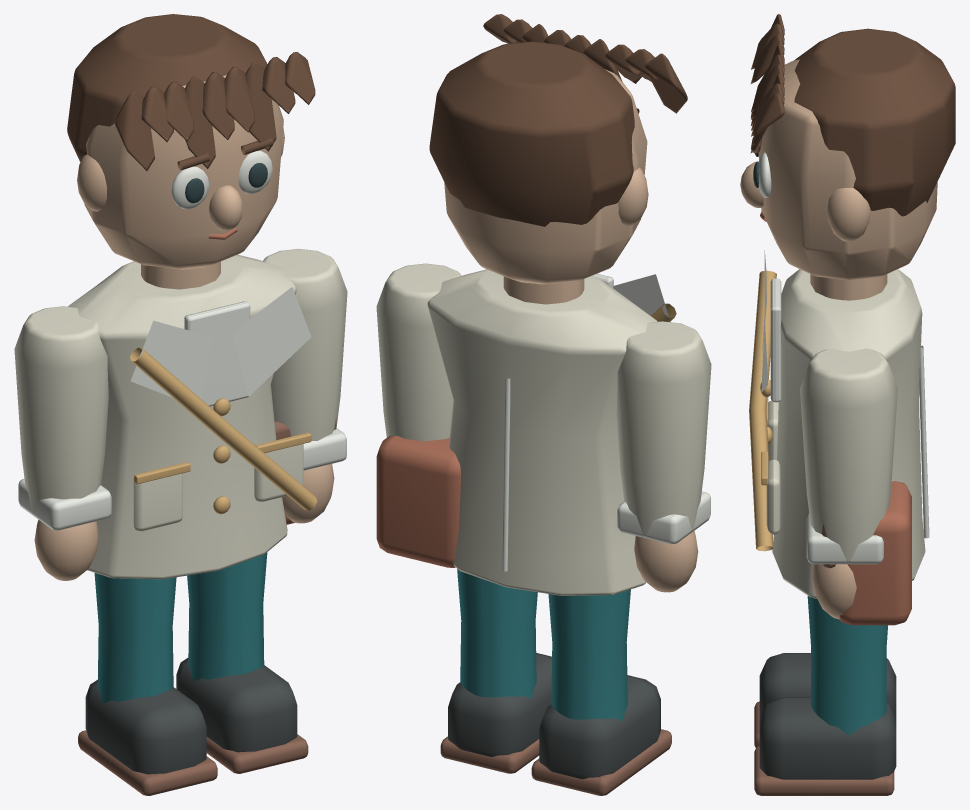
Rendered from player.glb.
3 views of the same model, side by side, from view 1: azimuth 30°, elevation 25°; view 2: azimuth 150°, elevation 25°; view 3: azimuth 270°, elevation 25° (orthographic).
Parts seen in each view (by area): view 1: Coat_batch, Hair_batch, Skin_batch, Coat_batch.001, Shirt_batch, Coat_batch.002, Enamel teal_batch, Enamel teal_batch.001, Boots_batch, Boots_batch.001, Accessory_batch, Skin_batch.001 (+6 smaller); view 2: Coat_batch, Hair_batch, Coat_batch.001, Skin_batch, Coat_batch.002, Oxide leather_batch, Enamel teal_batch, Enamel teal_batch.001, Boots_batch, Boots_batch.001, Skin_batch.001, Shirt_batch (+3 smaller); view 3: Hair_batch, Coat_batch, Skin_batch, Coat_batch.002, Boots_batch.001, Enamel teal_batch.001, Oxide leather_batch, Accessory_batch, Shirt_batch, Boots_batch, Walnut_batch.001, Shirt_batch.002 (+1 smaller).
Part boxes in pixels (x1=…): Coat_batch: x1=68, y1=254, x2=303, y2=579; Hair_batch: x1=67, y1=14, x2=315, y2=170; Skin_batch: x1=77, y1=75, x2=284, y2=289; Coat_batch.001: x1=14, y1=306, x2=108, y2=515; Shirt_batch: x1=130, y1=150, x2=311, y2=410; Coat_batch.002: x1=263, y1=248, x2=347, y2=440; Enamel teal_batch: x1=94, y1=573, x2=176, y2=703; Enamel teal_batch.001: x1=187, y1=552, x2=267, y2=681; Boots_batch: x1=85, y1=679, x2=206, y2=774; Boots_batch.001: x1=176, y1=658, x2=297, y2=752; Accessory_batch: x1=130, y1=347, x2=317, y2=514; Skin_batch.001: x1=34, y1=519, x2=98, y2=580; Coat_batch: x1=427, y1=269, x2=657, y2=595; Hair_batch: x1=429, y1=14, x2=687, y2=226; Coat_batch.001: x1=616, y1=321, x2=711, y2=537; Skin_batch: x1=444, y1=69, x2=648, y2=304; Coat_batch.002: x1=376, y1=263, x2=461, y2=441; Oxide leather_batch: x1=376, y1=435, x2=461, y2=567; Enamel teal_batch: x1=548, y1=589, x2=630, y2=720; Enamel teal_batch.001: x1=457, y1=569, x2=537, y2=698; Boots_batch: x1=539, y1=675, x2=660, y2=779; Boots_batch.001: x1=448, y1=653, x2=551, y2=756; Skin_batch.001: x1=634, y1=531, x2=698, y2=592; Shirt_batch: x1=502, y1=273, x2=670, y2=571; Hair_batch: x1=750, y1=14, x2=955, y2=216; Coat_batch: x1=766, y1=269, x2=925, y2=598; Skin_batch: x1=740, y1=59, x2=937, y2=300; Coat_batch.002: x1=800, y1=348, x2=897, y2=563; Boots_batch.001: x1=759, y1=697, x2=896, y2=779; Enamel teal_batch.001: x1=807, y1=596, x2=887, y2=735; Oxide leather_batch: x1=760, y1=211, x2=911, y2=625; Accessory_batch: x1=749, y1=270, x2=776, y2=551; Shirt_batch: x1=758, y1=152, x2=929, y2=538; Boots_batch: x1=759, y1=653, x2=896, y2=719; Walnut_batch.001: x1=754, y1=746, x2=894, y2=795; Shirt_batch.002: x1=806, y1=513, x2=883, y2=564.
Bounding box in the file's own units: 1.06 × 2.23 × 0.615.
